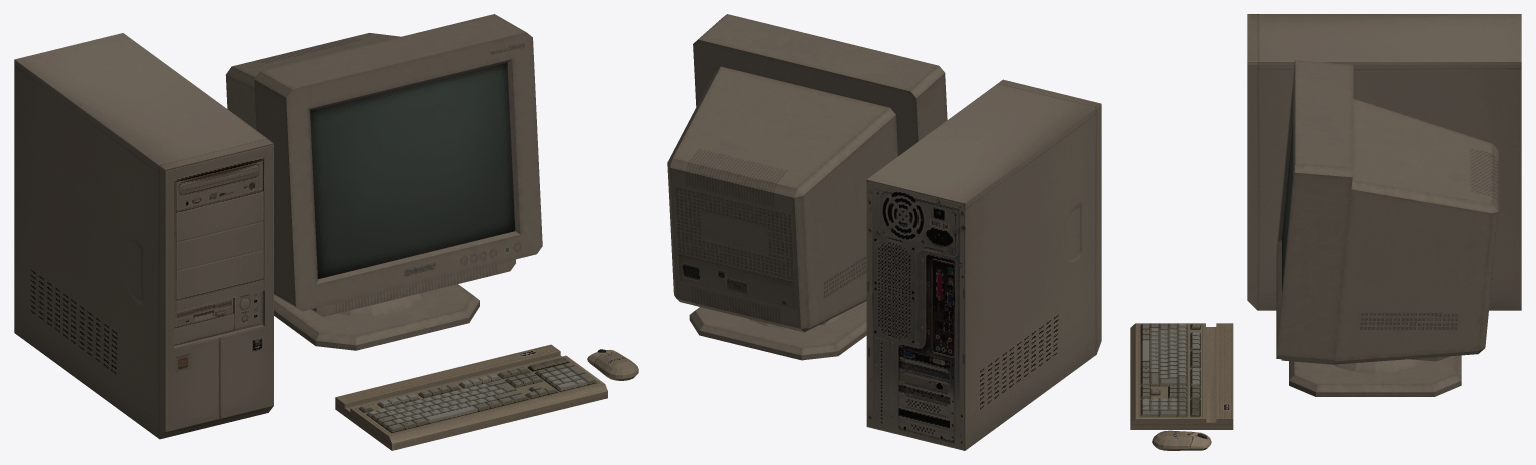
The model's file is blender_computer_fixed.glb.
The picture shows the model from 3 angles, left to right: view 1: azimuth 30°, elevation 25°; view 2: azimuth 150°, elevation 25°; view 3: azimuth 270°, elevation 25°; orthographic projection. The views are drawn at different scales.
Visible parts, largest first — view 1: blender_computer_fixed; view 2: blender_computer_fixed; view 3: blender_computer_fixed.
Part boxes in pixels (<box>): blender_computer_fixed: <box>14,14,638,450</box>; blender_computer_fixed: <box>667,14,1101,450</box>; blender_computer_fixed: <box>1130,14,1521,450</box>.
Bounding box in the file's own units: 0.7533 × 0.5 × 0.6564.
Materials: 5 (5 with a texture image).
